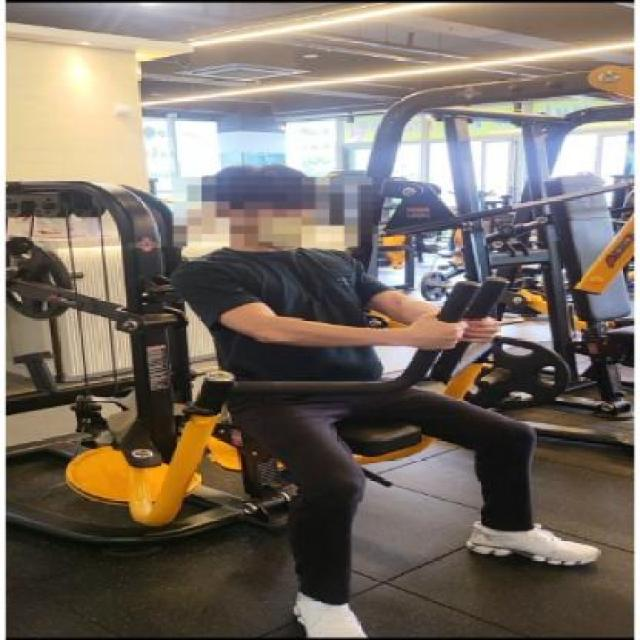chest fly machine: (11, 149, 611, 640)
